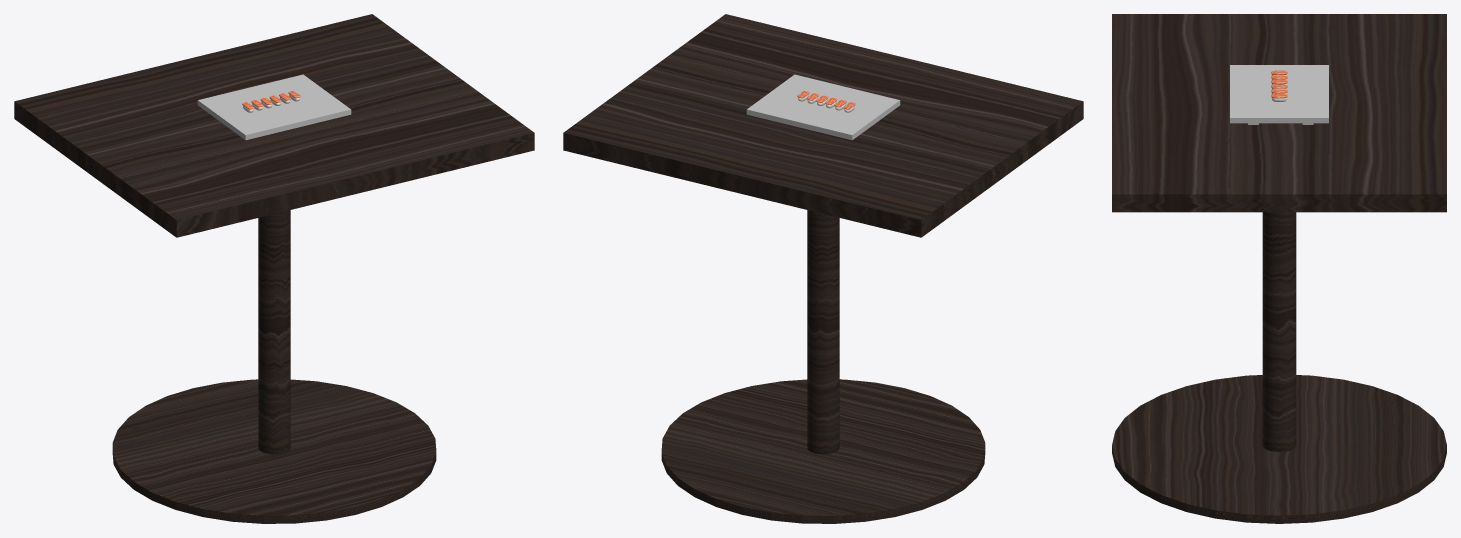
Rendered from Sushi.fbx.
The picture shows the model from 3 angles, left to right: view 1: azimuth 30°, elevation 25°; view 2: azimuth 150°, elevation 25°; view 3: azimuth 270°, elevation 25°; orthographic projection. The views are drawn at different scales.
Visible parts, largest first — view 1: Cube, Cylinder, Cylinder.001, Cube.003; view 2: Cube, Cylinder, Cylinder.001, Cube.003; view 3: Cube, Cylinder, Cylinder.001, Cube.003.
Boxes of the visible parts, bbox=[...] form: Cube: bbox=[14, 14, 534, 237]; Cylinder: bbox=[112, 379, 436, 523]; Cylinder.001: bbox=[258, 210, 290, 454]; Cube.003: bbox=[197, 74, 351, 140]; Cube: bbox=[563, 14, 1083, 237]; Cylinder: bbox=[661, 379, 985, 523]; Cylinder.001: bbox=[807, 210, 839, 454]; Cube.003: bbox=[746, 74, 900, 140]; Cube: bbox=[1112, 14, 1446, 212]; Cylinder: bbox=[1112, 375, 1446, 523]; Cylinder.001: bbox=[1262, 212, 1296, 451]; Cube.003: bbox=[1230, 65, 1328, 123].
Size of the model in its own units: 255 by 243 by 200.
